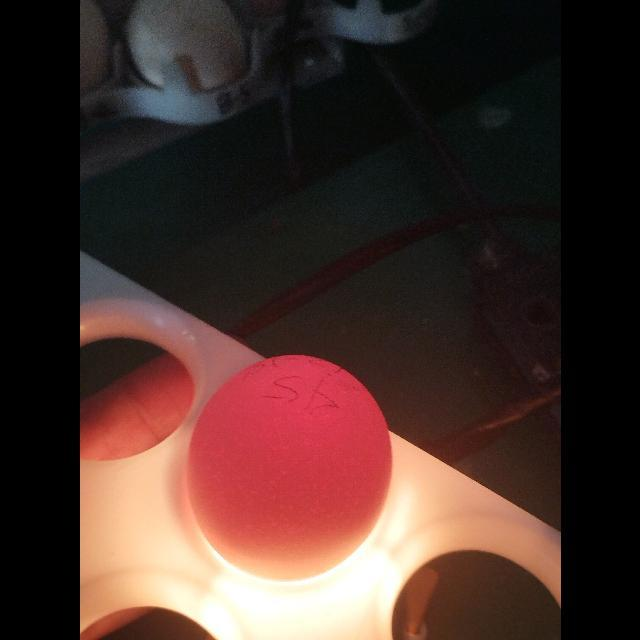Infertile: (182, 351, 396, 585)
